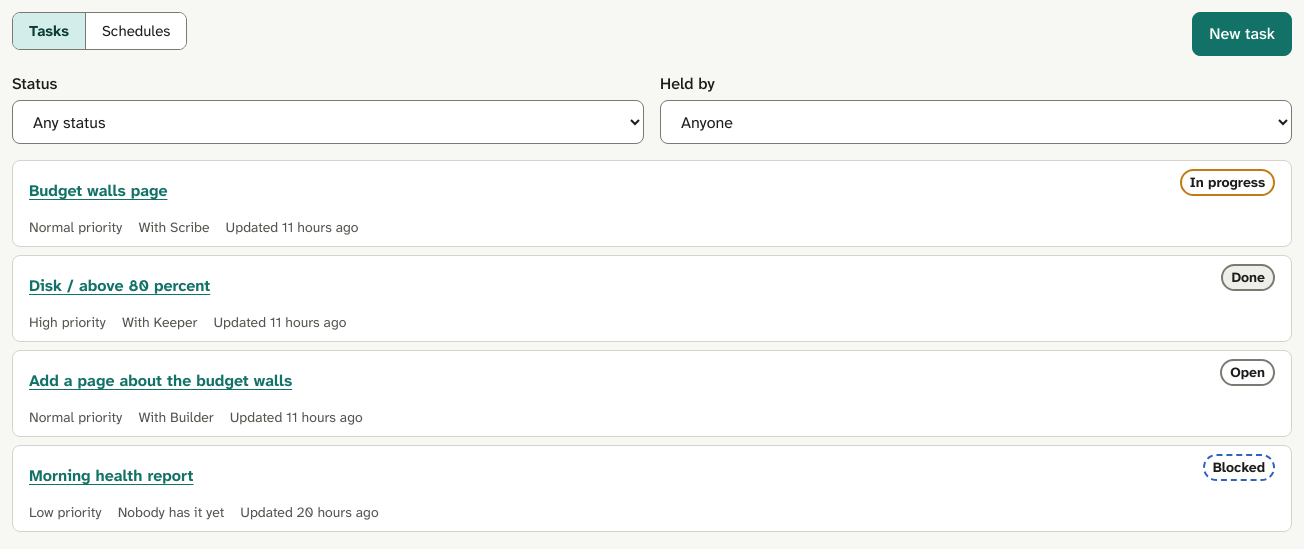
TasksPanel list › filters by who holds the task
Select "Builder" in the dropdown labelled "Held by" at (976,122), box [660,100,1292,144]
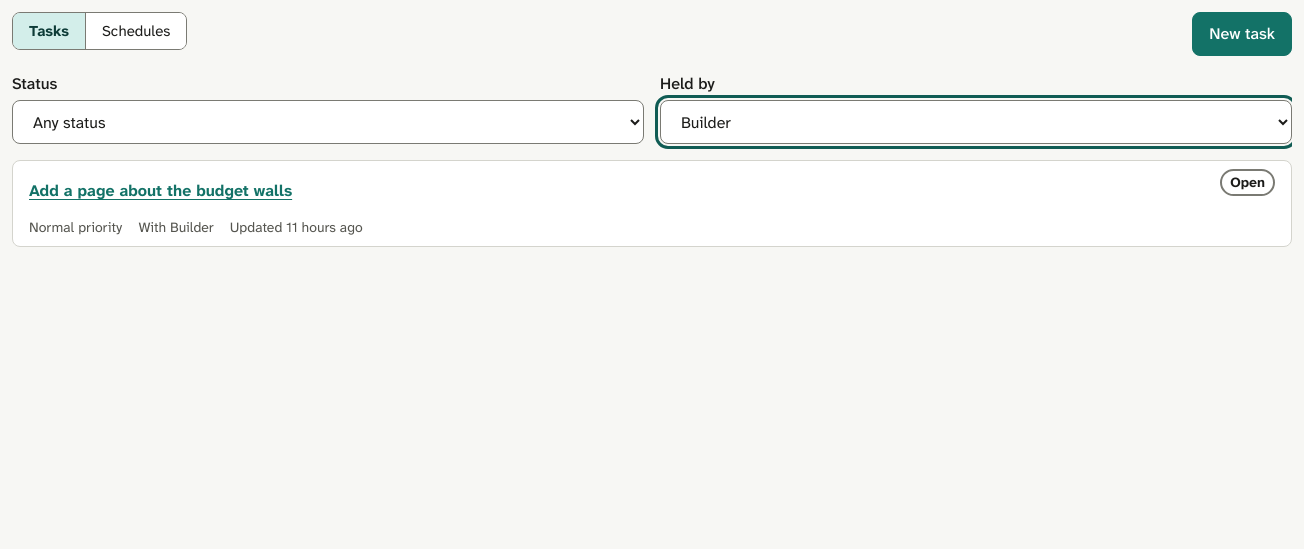
Check: the button "Add a page about the budget walls" is shown, box [29,169,1212,213]
Check: the button "Budget walls page" is gone
